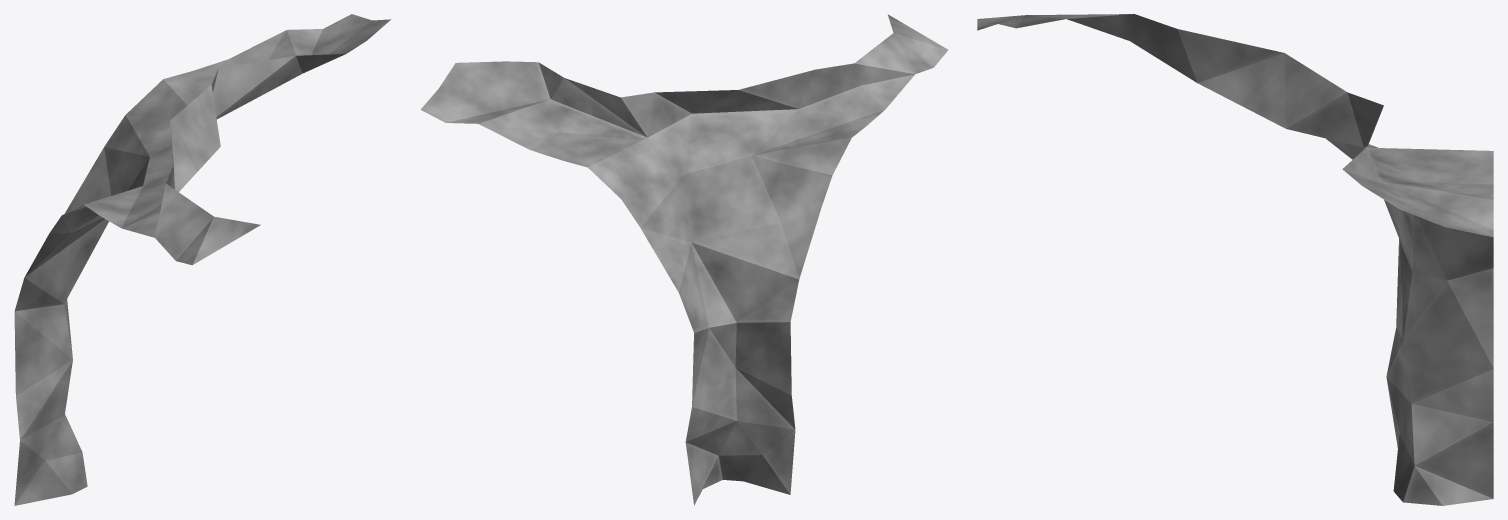
Rendered from RoofWallInnerCorner2.gltf.
3 views of the same model, side by side, from view 1: azimuth 30°, elevation 25°; view 2: azimuth 150°, elevation 25°; view 3: azimuth 270°, elevation 25° (orthographic). The views are drawn at different scales.
Visible parts, largest first — view 1: RoofWallInnerCorner2; view 2: RoofWallInnerCorner2; view 3: RoofWallInnerCorner2.
Boxes of the visible parts, x1,y1,x2,y2 form: RoofWallInnerCorner2: [14, 14, 390, 505]; RoofWallInnerCorner2: [420, 14, 947, 505]; RoofWallInnerCorner2: [977, 14, 1493, 505].
Bounding box in the file's own units: 5 × 5 × 5.
Materials: 1 (1 with a texture image).
